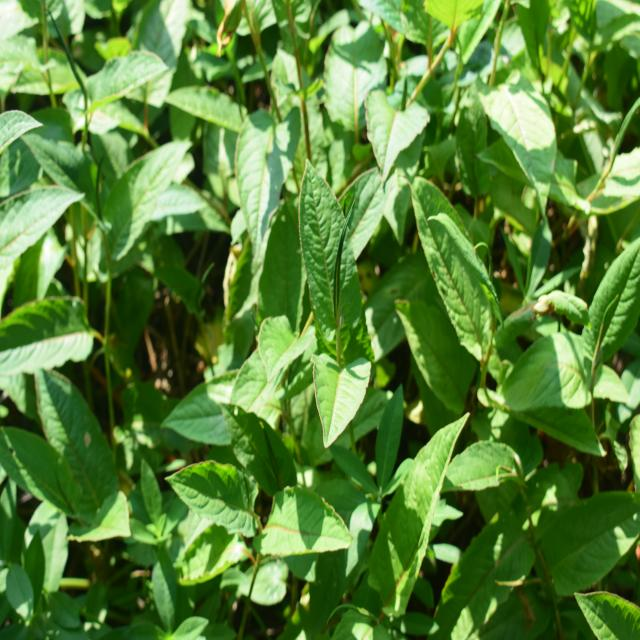Chinese_knotweed: (411, 188, 612, 453), (285, 170, 398, 438)
